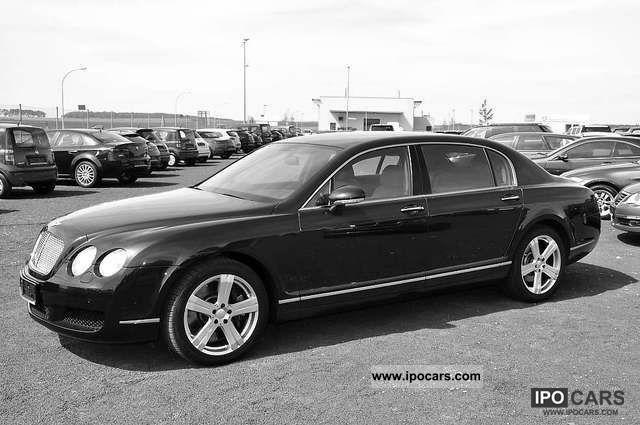car: (15, 127, 602, 368)
